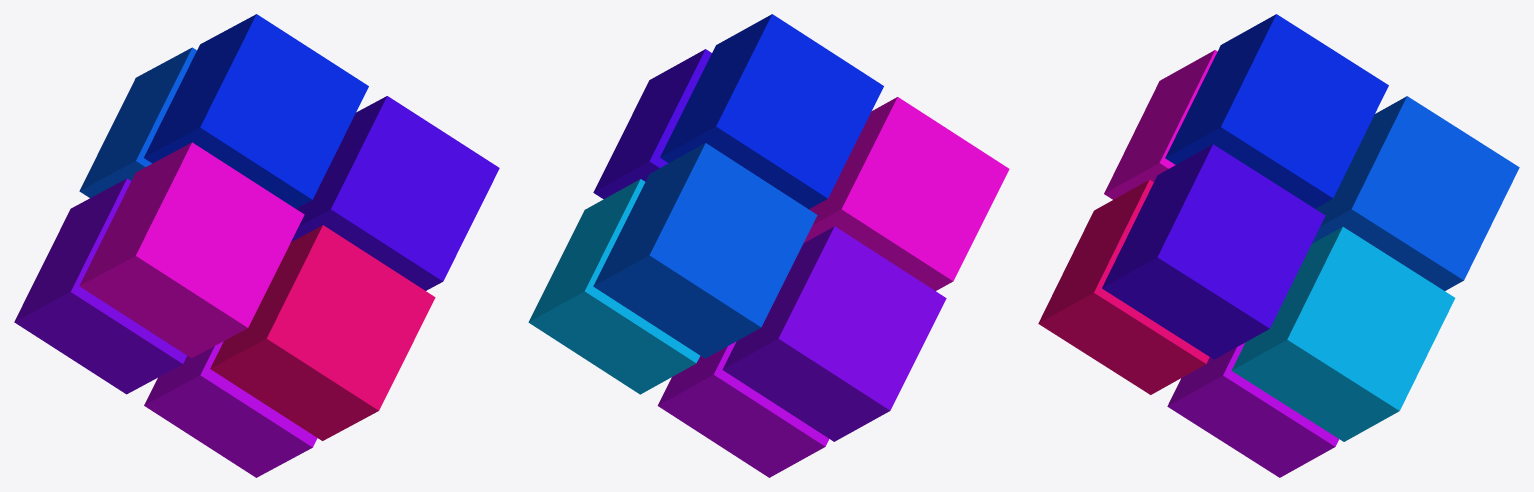
File: Cubes.fbx
3 views of the same model, side by side, from view 1: azimuth 30°, elevation 25°; view 2: azimuth 150°, elevation 25°; view 3: azimuth 270°, elevation 25° (orthographic).
Parts seen in each view (by area): view 1: Cube_cell.006, Cube_cell.007, Cube_cell.002, Cube_cell.003, Cube_cell.004, Cube_cell.005, Cube_cell; view 2: Cube_cell, Cube_cell.004, Cube_cell.002, Cube_cell.006, Cube_cell.001, Cube_cell.005, Cube_cell.003; view 3: Cube_cell.003, Cube_cell.001, Cube_cell.002, Cube_cell, Cube_cell.007, Cube_cell.005, Cube_cell.006.
Boxes of the visible parts, x1,y1,x2,y2 form: Cube_cell.006: (79,142,304,358); Cube_cell.007: (210,225,435,440); Cube_cell.002: (144,14,368,208); Cube_cell.003: (291,96,499,290); Cube_cell.004: (14,178,186,394); Cube_cell.005: (144,341,317,477); Cube_cell: (79,47,196,197); Cube_cell: (593,143,817,358); Cube_cell.004: (722,226,946,441); Cube_cell.002: (660,14,883,209); Cube_cell.006: (803,97,1009,290); Cube_cell.001: (528,179,700,394); Cube_cell.005: (657,341,829,477); Cube_cell.003: (593,49,711,199); Cube_cell.003: (1102,144,1325,359); Cube_cell.001: (1231,227,1455,441); Cube_cell.002: (1165,14,1388,208); Cube_cell: (1312,96,1519,290); Cube_cell.007: (1038,179,1209,394); Cube_cell.005: (1167,343,1339,477); Cube_cell.006: (1104,50,1217,199).
Size of the model in its own units: 264 by 323 by 304.
